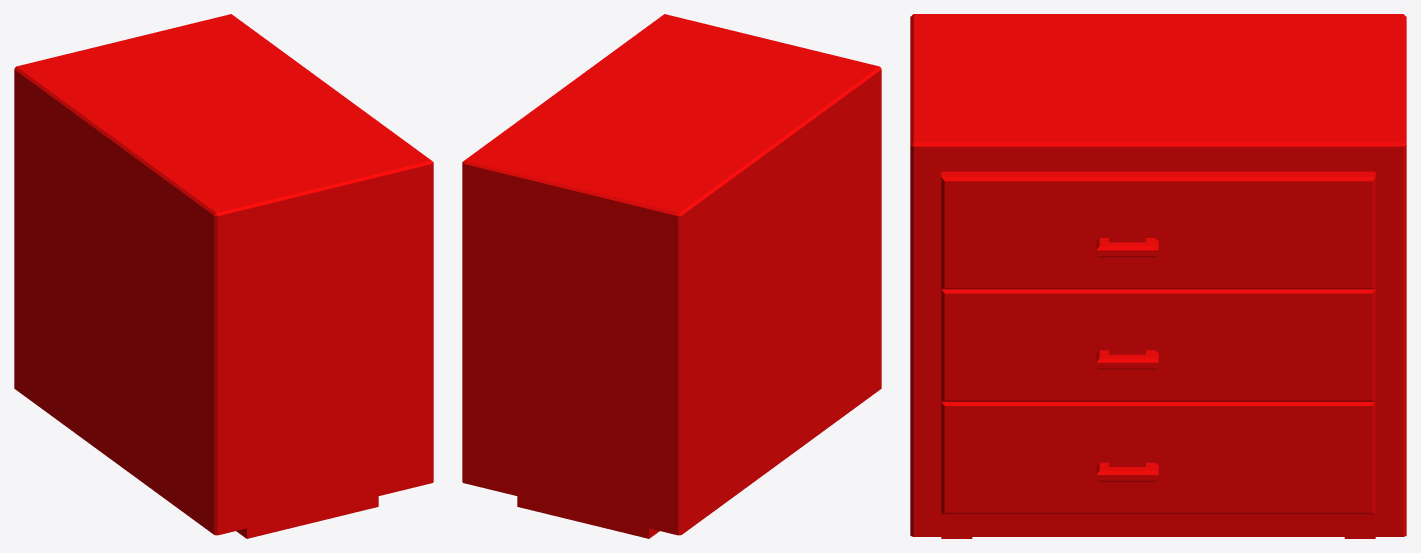
Rendered from cupboard_small.gltf.
3 views of the same model, side by side, from view 1: azimuth 30°, elevation 25°; view 2: azimuth 150°, elevation 25°; view 3: azimuth 270°, elevation 25° (orthographic). The views are drawn at different scales.
Parts seen in each view (by area): view 1: cupboard; view 2: cupboard; view 3: cupboard.
Boxes of the visible parts, left/top/right/bottom form: cupboard: left=14, top=14, right=433, bottom=538; cupboard: left=462, top=14, right=881, bottom=538; cupboard: left=910, top=14, right=1406, bottom=538.
Size of the model in its own units: 0.5612 by 0.75 by 0.8.
